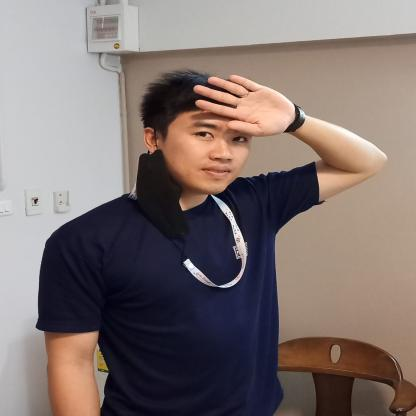Sick: (180, 62, 405, 215)
